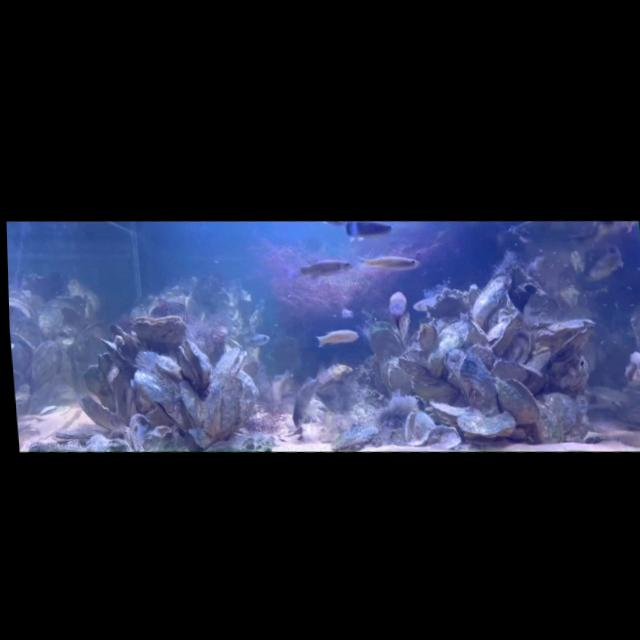Oyster-Closed: (133, 347, 188, 433), (443, 343, 501, 417), (424, 318, 472, 380), (469, 270, 515, 329), (455, 407, 517, 442), (537, 390, 581, 435), (486, 307, 523, 358), (221, 374, 248, 437), (200, 379, 227, 439), (532, 398, 565, 445), (429, 397, 483, 424), (178, 378, 204, 430), (412, 377, 457, 406), (54, 420, 110, 442), (459, 312, 491, 347), (99, 337, 129, 367)
Oyster-Indeterminate: (31, 338, 67, 402), (79, 363, 118, 415), (76, 390, 120, 432), (554, 323, 596, 366), (531, 316, 596, 343), (425, 286, 472, 323), (10, 330, 37, 390), (109, 321, 144, 362), (237, 370, 261, 429), (500, 324, 534, 364), (466, 340, 499, 375), (492, 355, 528, 385), (426, 423, 463, 452), (127, 412, 153, 453), (147, 294, 186, 321), (523, 344, 555, 375), (415, 321, 440, 354), (396, 356, 429, 379)
Oyster-Open: (492, 372, 542, 428), (132, 312, 189, 350), (366, 317, 407, 362), (178, 337, 214, 388), (401, 410, 438, 448), (212, 345, 249, 381), (9, 295, 37, 326)
